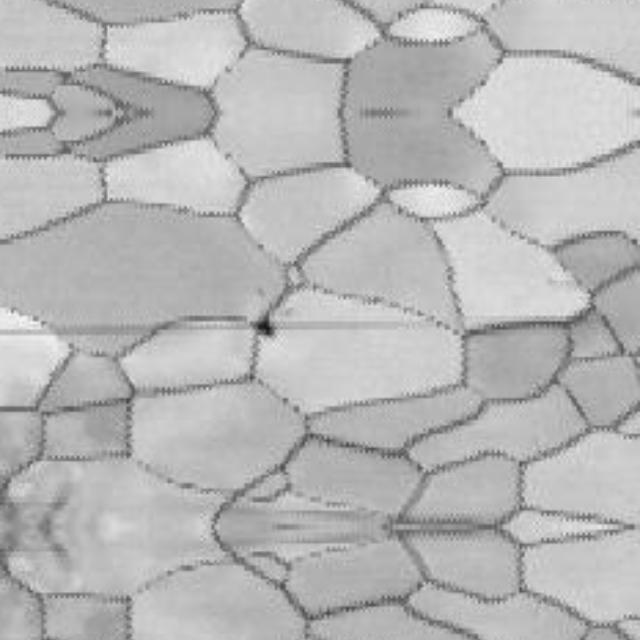good_void: (250, 314, 276, 338)
